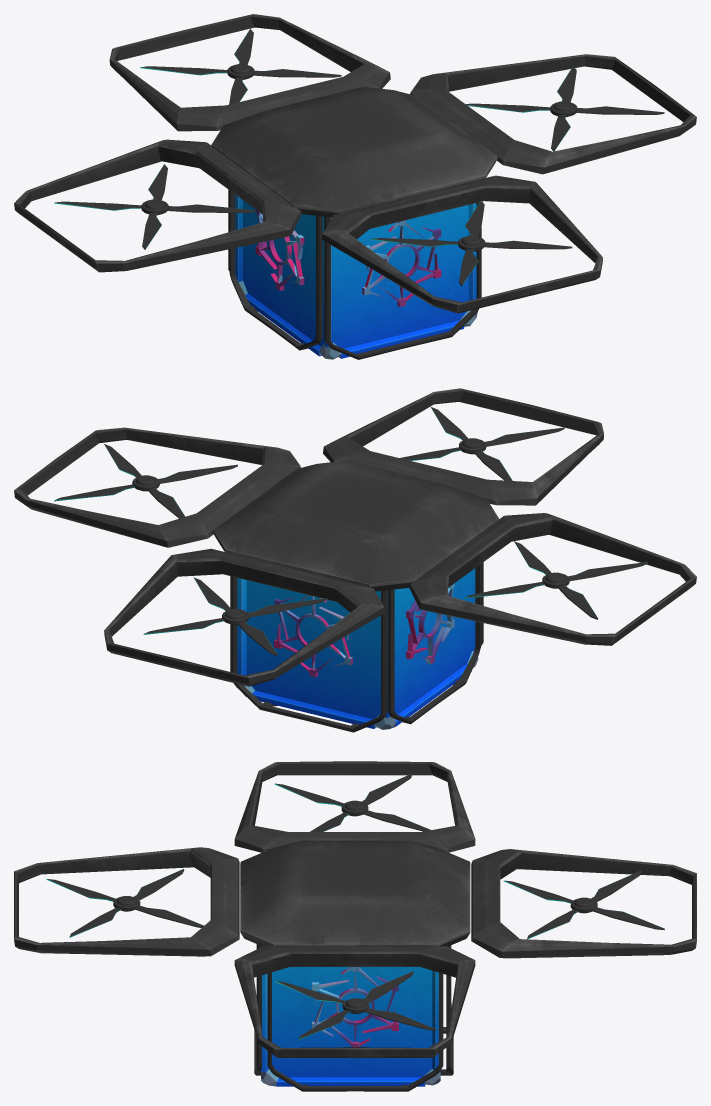
Rendered from drone.gltf.
The picture shows the model from 3 angles, top to bottom: view 1: azimuth 30°, elevation 25°; view 2: azimuth 150°, elevation 25°; view 3: azimuth 270°, elevation 25°; orthographic projection. The views are drawn at different scales.
Visible parts, largest first — view 1: polySurface27; view 2: polySurface27; view 3: polySurface27.
Part boxes in pixels (x1,y1,x2,y2): polySurface27: (14,14,696,359); polySurface27: (14,388,696,732); polySurface27: (14,761,696,1091).
Bounding box in the file's own units: 21.2 × 6.22 × 21.34.
Materials: 5 (5 with a texture image).
